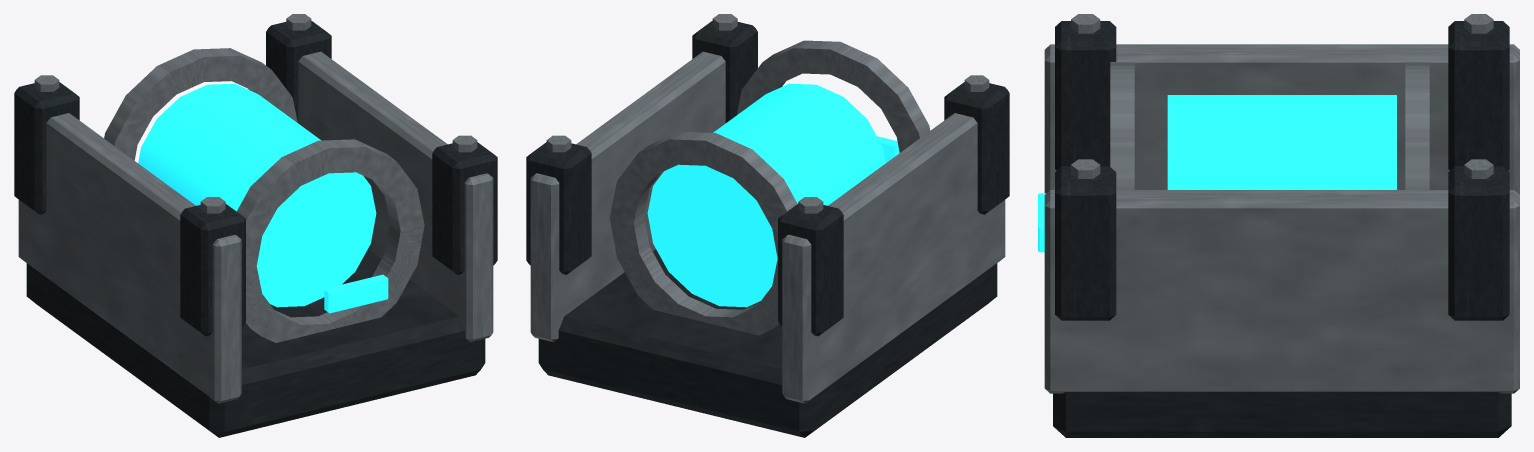
Rendered from energy.glb.
3 renders of one model, left to right at view 1: azimuth 30°, elevation 25°; view 2: azimuth 150°, elevation 25°; view 3: azimuth 270°, elevation 25°, orthographic. The views are drawn at different scales.
Parts seen in each view (by area): view 1: energy_mesh; view 2: energy_mesh; view 3: energy_mesh.
Boxes of the visible parts, box(x1,y1,x2,y2) form: energy_mesh: box(14, 14, 497, 437); energy_mesh: box(526, 14, 1009, 437); energy_mesh: box(1038, 14, 1519, 437).
Size of the model in its own units: 0.495 by 0.39 by 0.588.
2 materials, 1 textured.
